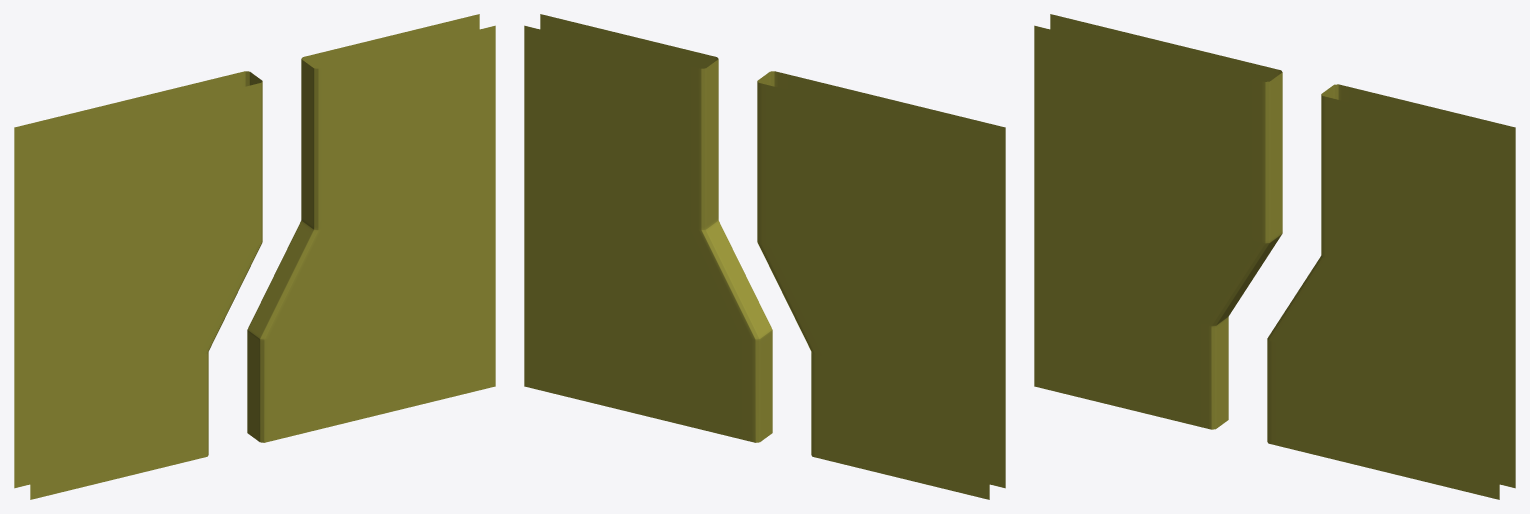
Rendered from BasicHigh.FBX.
The picture shows the model from 3 angles, left to right: view 1: azimuth 30°, elevation 25°; view 2: azimuth 150°, elevation 25°; view 3: azimuth 330°, elevation 25°; orthographic projection.
Visible parts, largest first — view 1: Box005, Object005; view 2: Box005, Object005; view 3: Box005, Object005.
Part boxes in pixels (x1,y1,x2,y2): Box005: (14, 71, 262, 499); Object005: (247, 14, 495, 442); Box005: (757, 71, 1005, 499); Object005: (524, 14, 772, 442); Box005: (1034, 14, 1282, 429); Object005: (1267, 84, 1515, 499).
Size of the model in its own units: 133 by 7.87 by 98.43.
